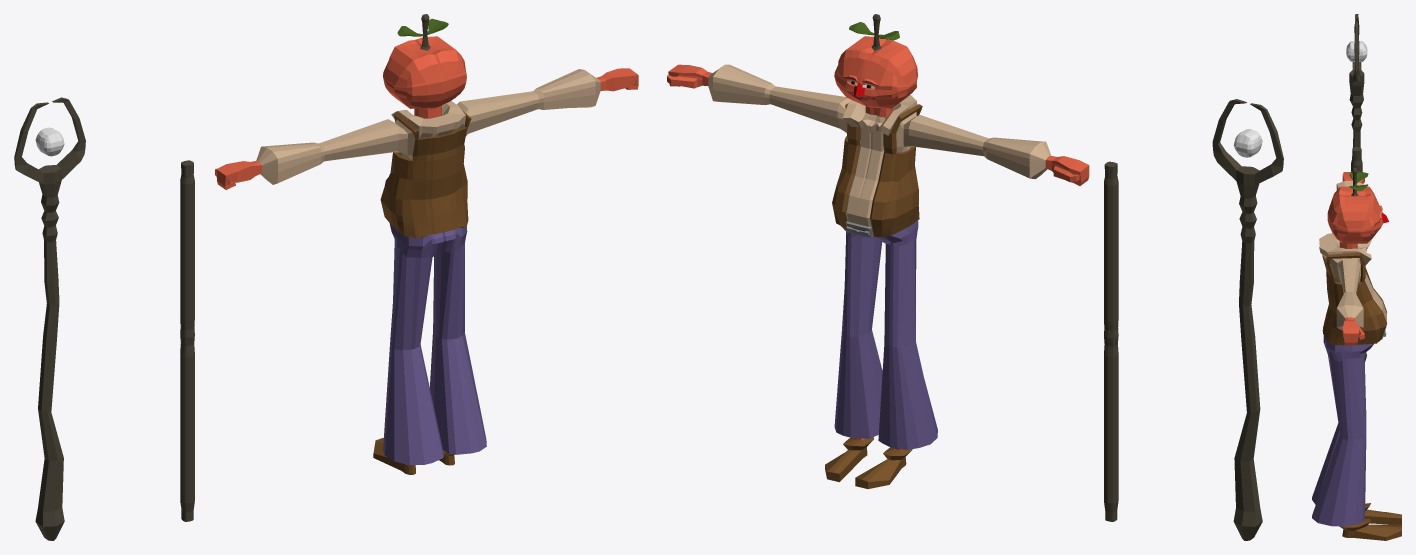
The model's file is Weapons.fbx.
3 views of the same model, side by side, from view 1: azimuth 30°, elevation 25°; view 2: azimuth 150°, elevation 25°; view 3: azimuth 270°, elevation 25° (orthographic). The views are drawn at different scales.
Parts seen in each view (by area): view 1: Cube, Cube.001, Cube.002; view 2: Cube, Cube.001, Cube.002; view 3: Cube, Cube.001, Cube.002.
Boxes of the visible parts, x1,y1,x2,y2 form: Cube: (215,14,638,474); Cube.001: (14,97,85,540); Cube.002: (180,160,194,521); Cube: (667,14,1089,488); Cube.001: (1212,99,1283,540); Cube.002: (1104,161,1118,521); Cube: (1312,167,1401,540); Cube.001: (1346,14,1367,361); Cube.002: (1351,147,1362,171).
Size of the model in its own units: 2278 by 1603 by 359.
